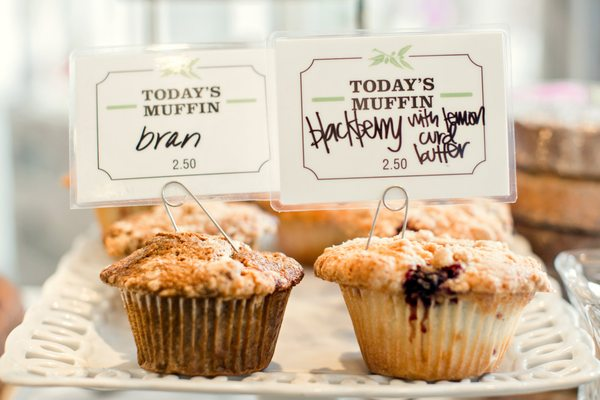sushi: (316, 218, 551, 383), (99, 230, 304, 378)
